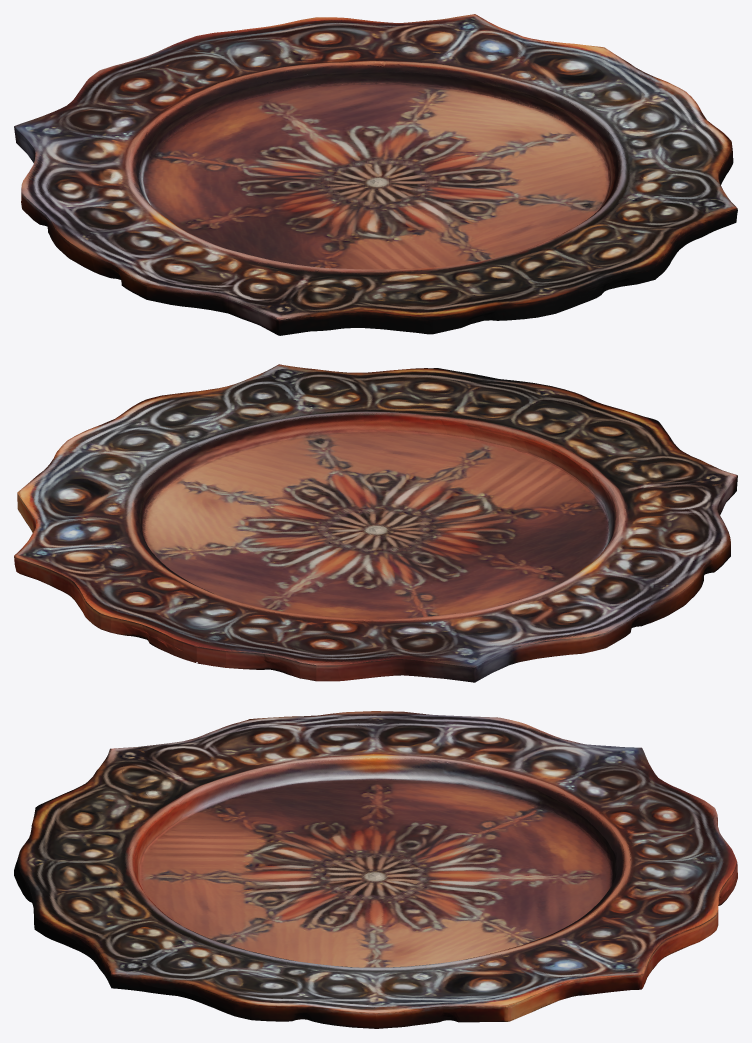
File: wooden-plate-vintage.jpeg.glb
3 renders of one model, top to bottom at view 1: azimuth 30°, elevation 25°; view 2: azimuth 150°, elevation 25°; view 3: azimuth 270°, elevation 25°, orthographic.
Parts seen in each view (by area): view 1: world; view 2: world; view 3: world.
Part boxes in pixels (x1=…): world: x1=14, y1=14, x2=737, y2=335; world: x1=14, y1=364, x2=737, y2=682; world: x1=14, y1=711, x2=737, y2=1028.
Bounding box in the file's own units: 0.9917 × 0.0318 × 0.9987.
1 material, 1 textured.
